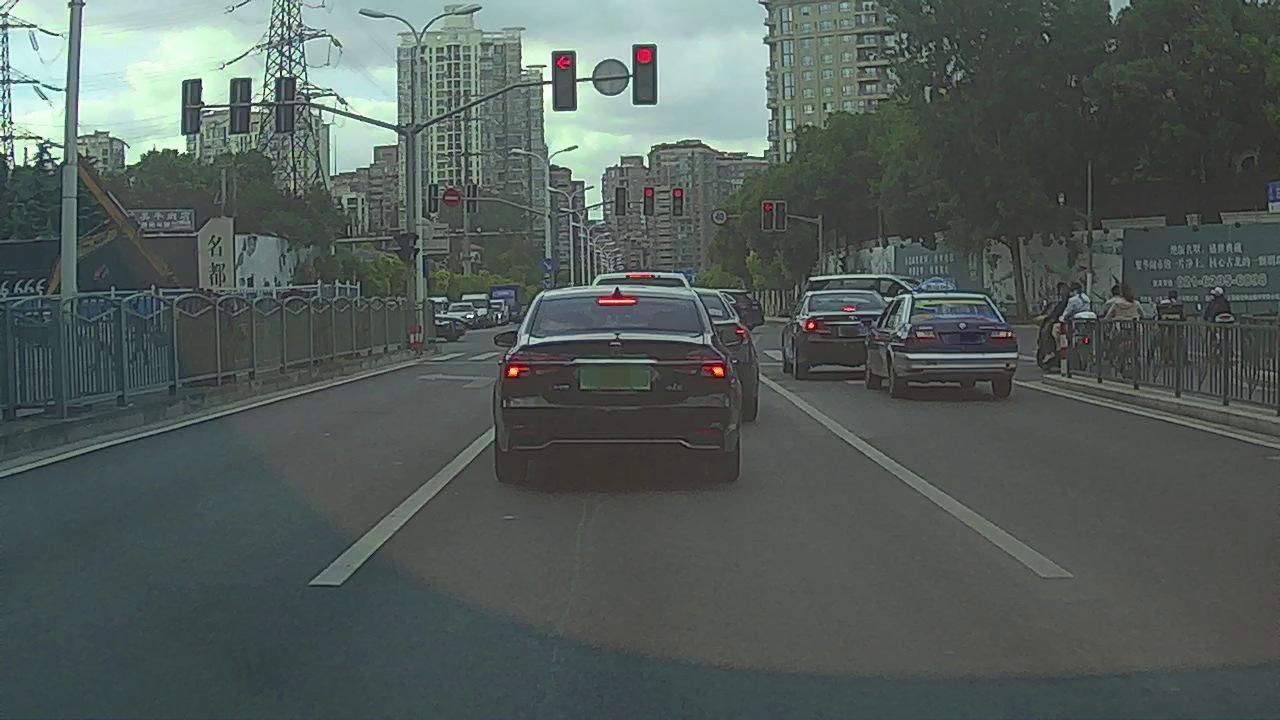traffic_light: (633, 46, 656, 104), (553, 52, 575, 110), (761, 202, 773, 230), (774, 202, 785, 230), (643, 188, 653, 217), (672, 188, 682, 215), (615, 188, 625, 214)
